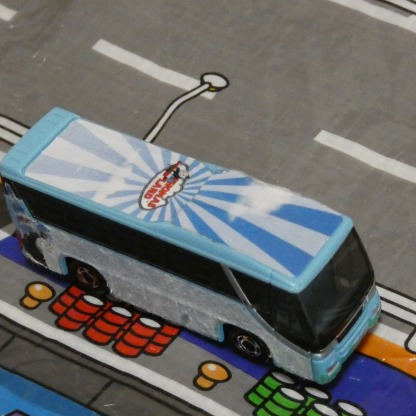car: (0, 108, 380, 385)
